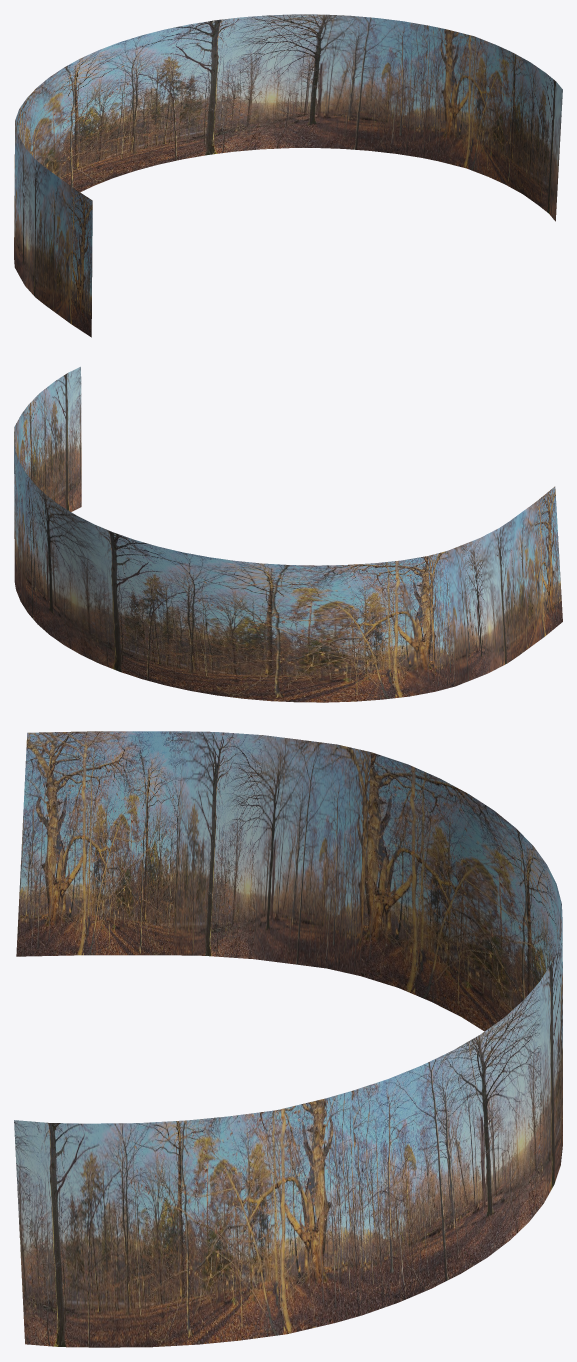
The model's file is Background.glb.
The picture shows the model from 3 angles, top to bottom: view 1: azimuth 30°, elevation 25°; view 2: azimuth 150°, elevation 25°; view 3: azimuth 270°, elevation 25°; orthographic projection. The views are drawn at different scales.
Parts seen in each view (by area): view 1: Plane.001; view 2: Plane.001; view 3: Plane.001.
Boxes of the visible parts, x1,y1,x2,y2 form: Plane.001: (14,14,562,337); Plane.001: (14,366,562,702); Plane.001: (14,731,562,1347).
Bounding box in the file's own units: 64.16 × 17.2 × 37.61.
Materials: 1 (1 with a texture image).
